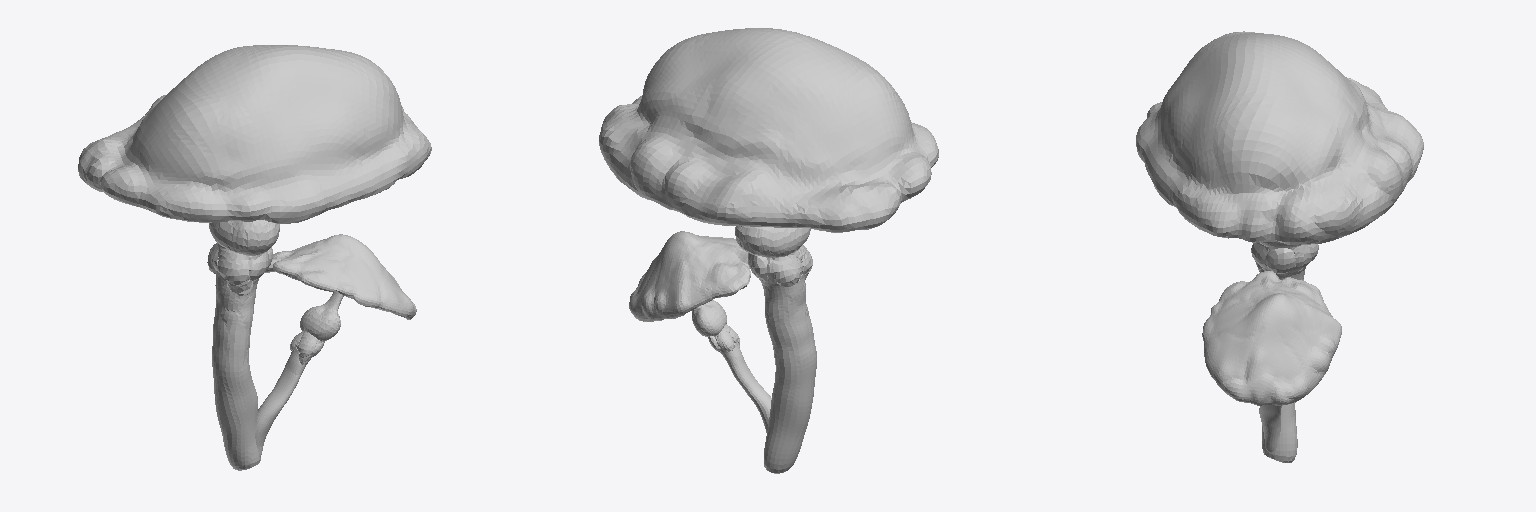
File: PolySphere4_1_high.obj
3 renders of one model, left to right at view 1: azimuth 30°, elevation 25°; view 2: azimuth 150°, elevation 25°; view 3: azimuth 270°, elevation 25°, orthographic.
Visible parts, largest first — view 1: Group14434; view 2: Group14434; view 3: Group14434.
Boxes of the visible parts, box(x1,y1,x2,y2) form: Group14434: box(78, 45, 431, 470); Group14434: box(599, 28, 938, 473); Group14434: box(1136, 31, 1423, 462).
Size of the model in its own units: 0.4917 by 0.6423 by 0.3964.